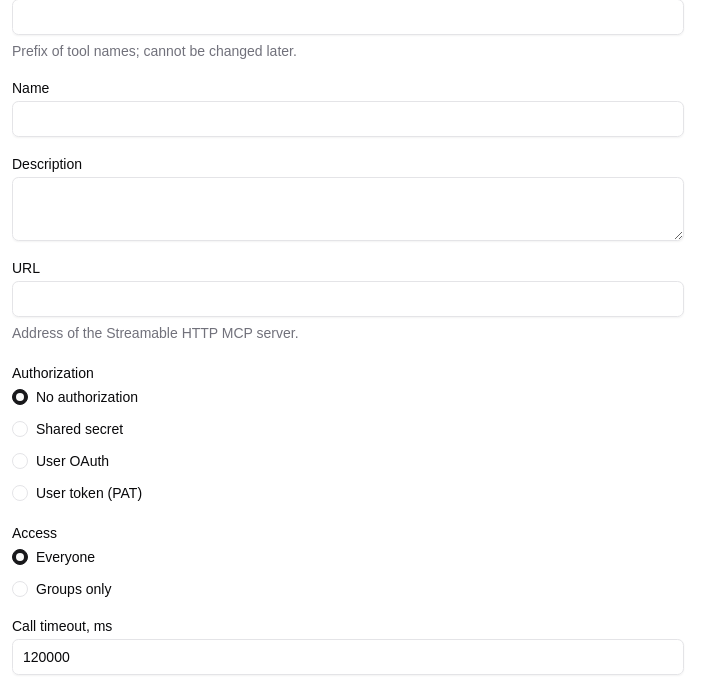
ServerForm › auth kind decides the fields: oauth vs shared/pat vs none
The image size is (701, 688).
Expected: the field labelled "Header" is not shown
Click the radio button named "Shared secret" at (20, 429), box [12,421,28,437]
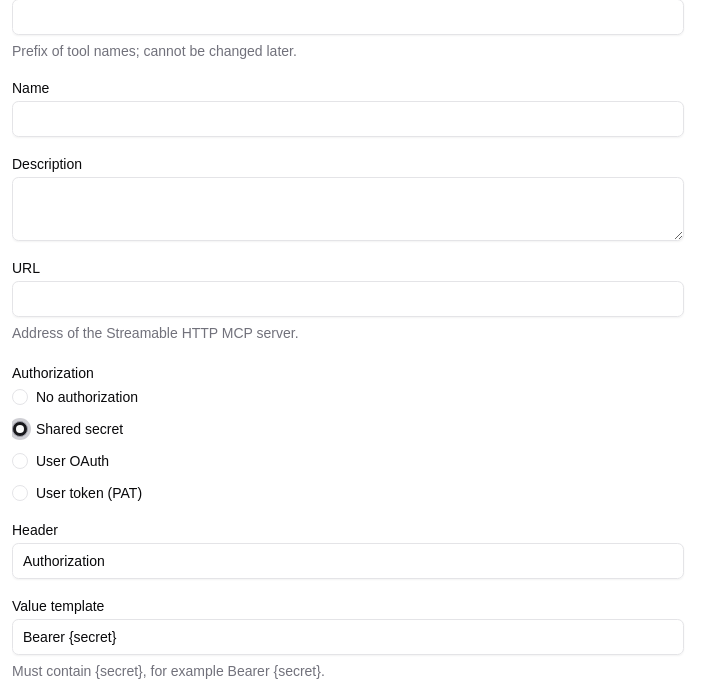
Now the field labelled "Header" is shown, box [12,543,684,579]
Now the field labelled "Value template" is shown, box [12,619,684,655]
Click the radio button named "User token (PAT)" at (20, 493), box [12,485,28,501]
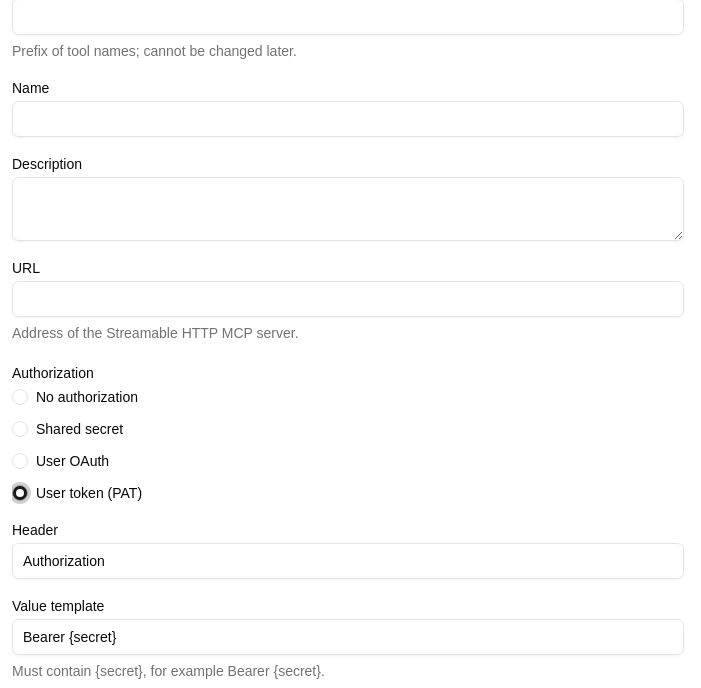
Expected: the field labelled "Client secret" is not shown
Now the field labelled "Header" is shown, box [12,543,684,579]
Click the radio button named "User OAuth" at (20, 461), box [12,453,28,469]
(page scrolled)
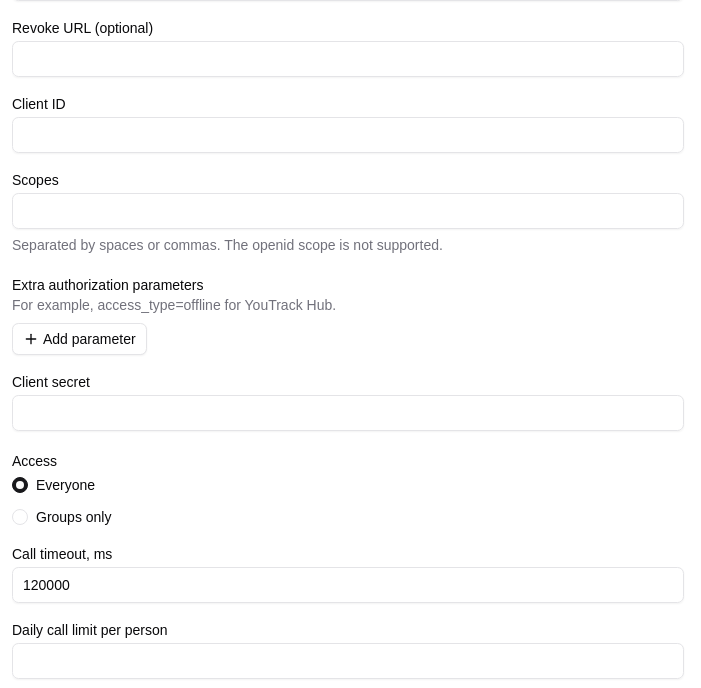
Now the field labelled "Client ID" is shown, box [12,117,684,153]
Now the password field labelled "Client secret" is shown, box [12,395,684,431]
Now the field labelled "Scopes" is shown, box [12,193,684,229]
